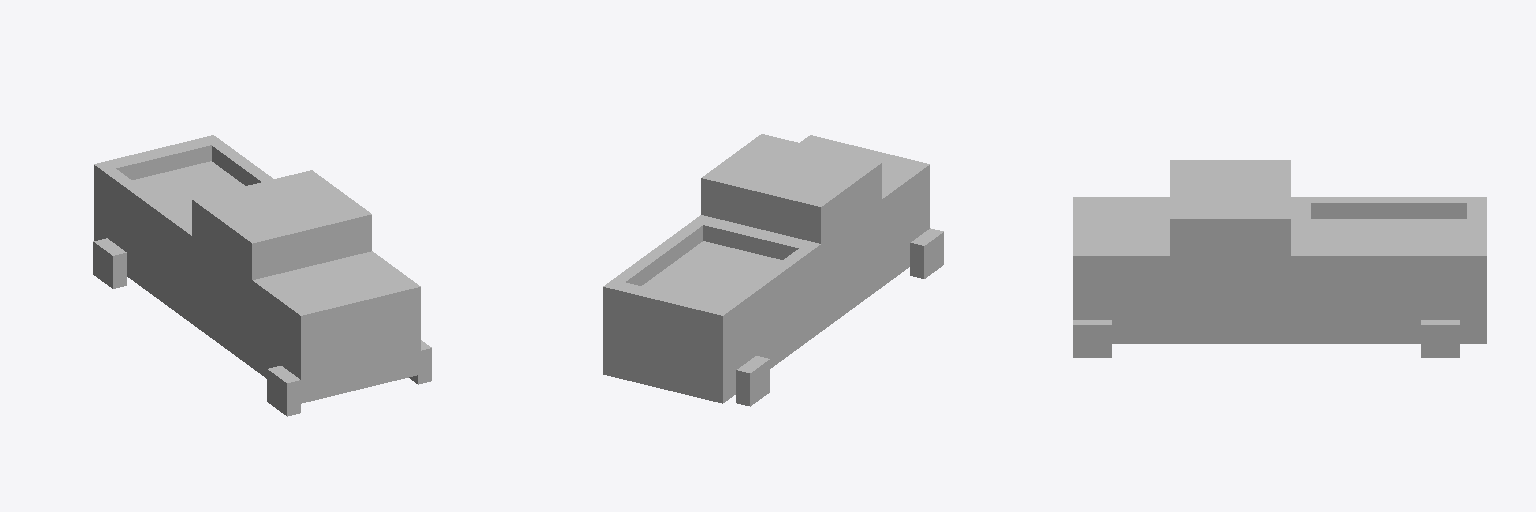
File: Pick up.obj
The picture shows the model from 3 angles: view 1: azimuth 30°, elevation 25°; view 2: azimuth 150°, elevation 25°; view 3: azimuth 270°, elevation 25°; orthographic projection.
Visible parts, largest first — view 1: Pick up; view 2: Pick up; view 3: Pick up.
Boxes of the visible parts, x1=… form: Pick up: x1=93, y1=135, x2=431, y2=416; Pick up: x1=603, y1=134, x2=943, y2=406; Pick up: x1=1073, y1=160, x2=1486, y2=357.
Size of the model in its own units: 2.59 by 2.28 by 6.41.